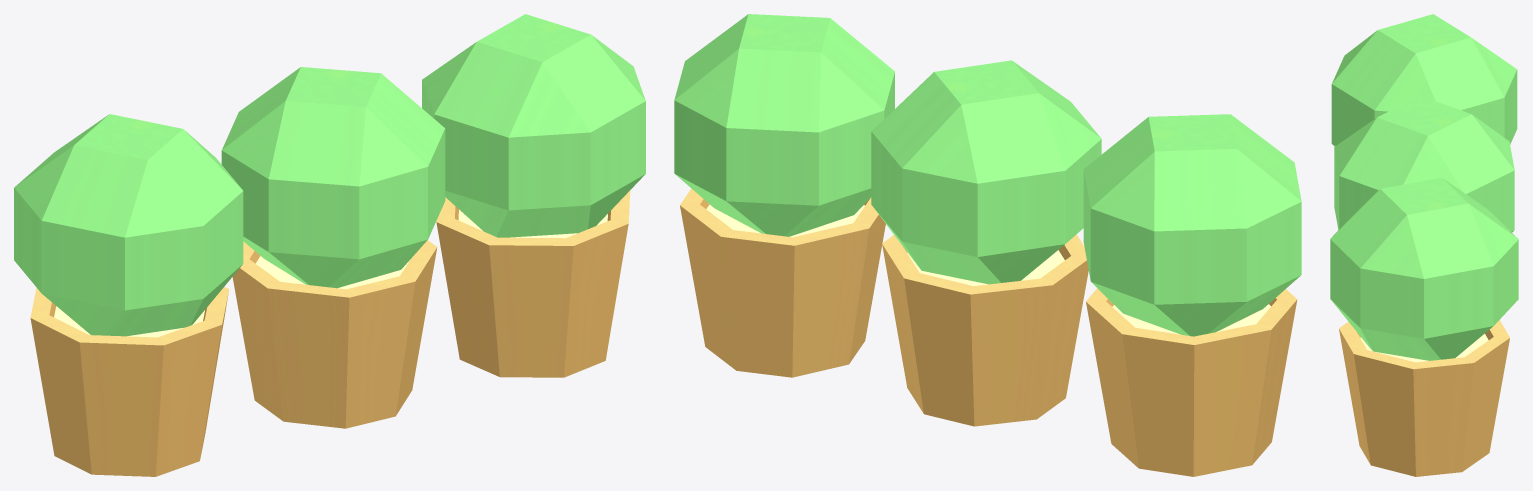
File: trees.006.glb
3 views of the same model, side by side, from view 1: azimuth 30°, elevation 25°; view 2: azimuth 150°, elevation 25°; view 3: azimuth 270°, elevation 25° (orthographic). The views are drawn at different scales.
Parts seen in each view (by area): view 1: trees.006(Clone); view 2: trees.006(Clone); view 3: trees.006(Clone).
Boxes of the visible parts, left/top/right/bottom form: trees.006(Clone): left=14, top=14, right=645, bottom=476; trees.006(Clone): left=674, top=14, right=1301, bottom=476; trees.006(Clone): left=1330, top=14, right=1518, bottom=476.
Size of the model in its own units: 1.57 by 0.7703 by 0.5195.
1 material, 1 textured.
